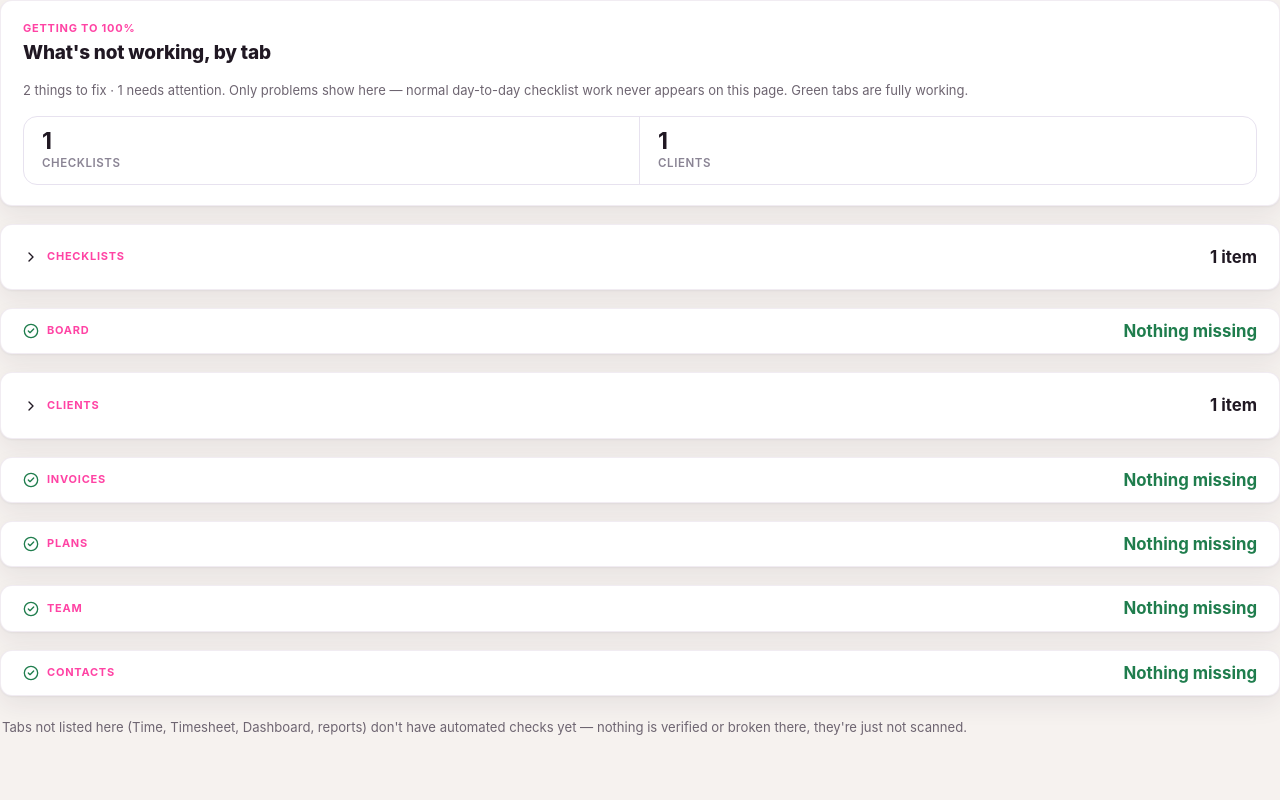
Test: the plan checklists fix dialog offers Link existing › Set them up links her checklist and copies only the rest, then says what it did
The image size is (1280, 800).
Click the button with class "setup-cat-header" showing "Clients 1 item": (73, 405) x1=23 y1=393 x2=1257 y2=418
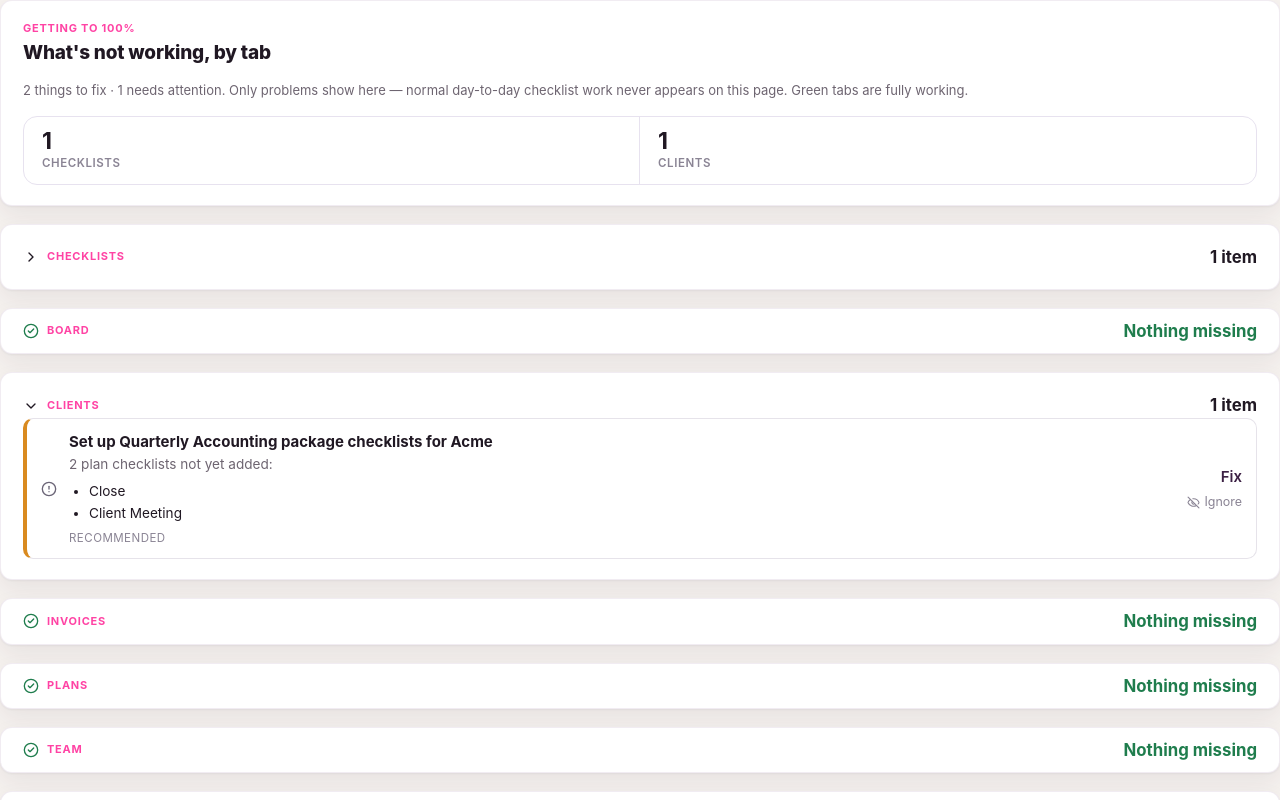
Click the button "Fix": (1231, 476) x1=1221 y1=466 x2=1242 y2=487
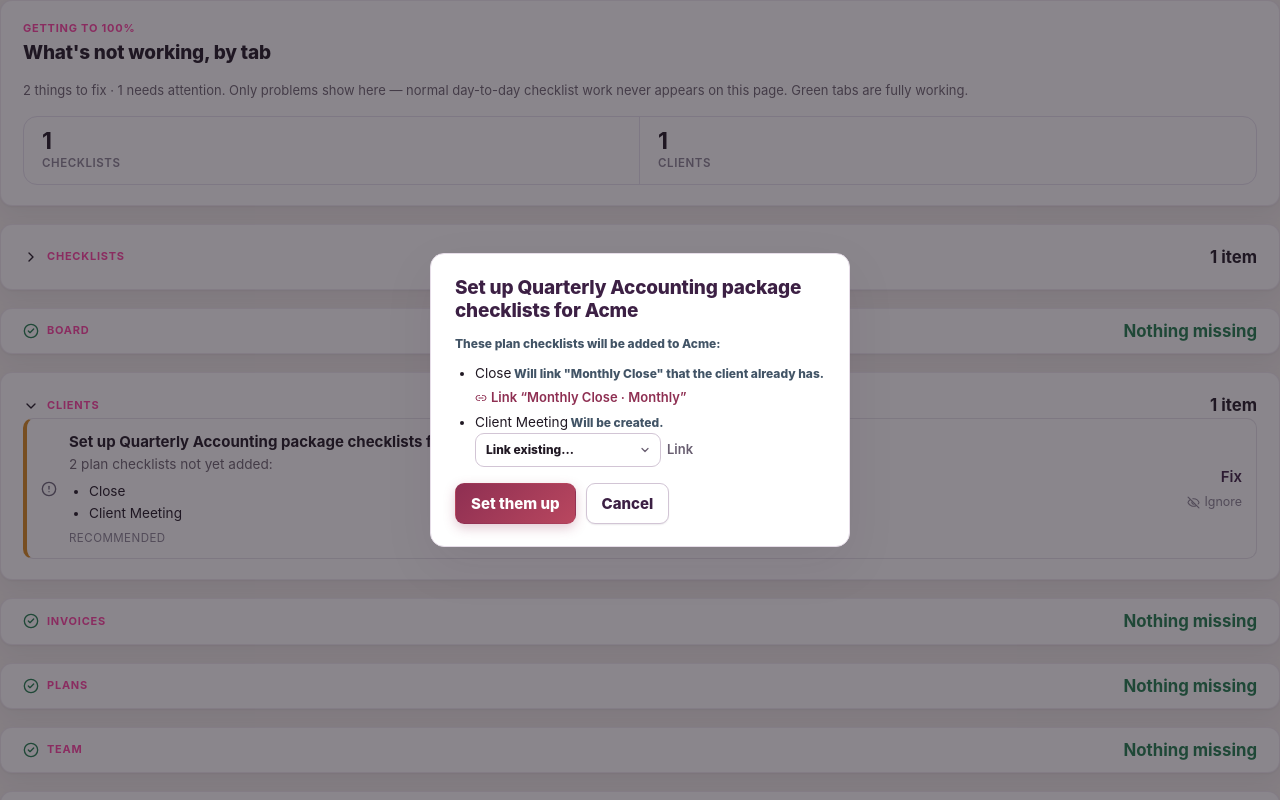
Result: the text "Will link \"Monthly Close\" that the client already has." is shown at x1=512 y1=366 x2=824 y2=381
Result: the text "Will be created." is shown at x1=568 y1=415 x2=663 y2=430
Click the button "Set them up": (515, 504) x1=455 y1=483 x2=576 y2=524
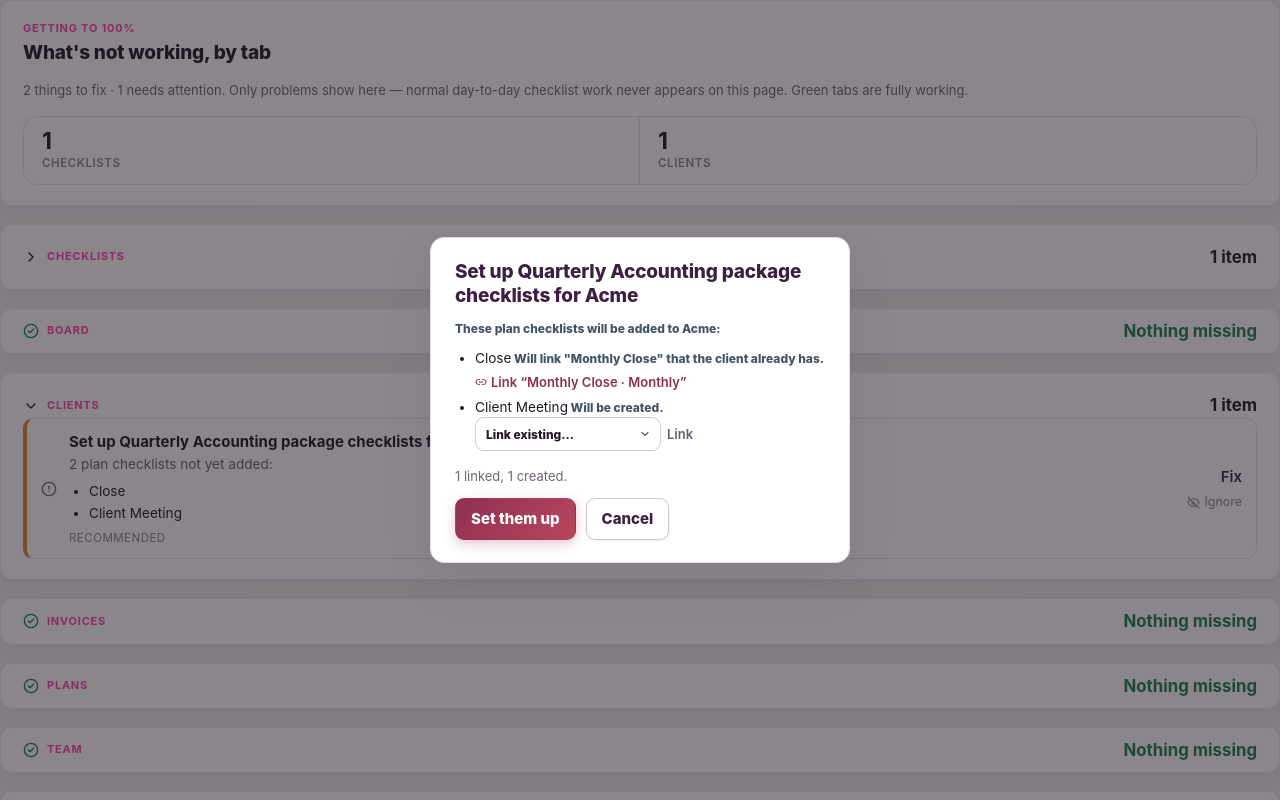
Result: the text "1 linked, 1 created." is shown at x1=455 y1=468 x2=567 y2=484
